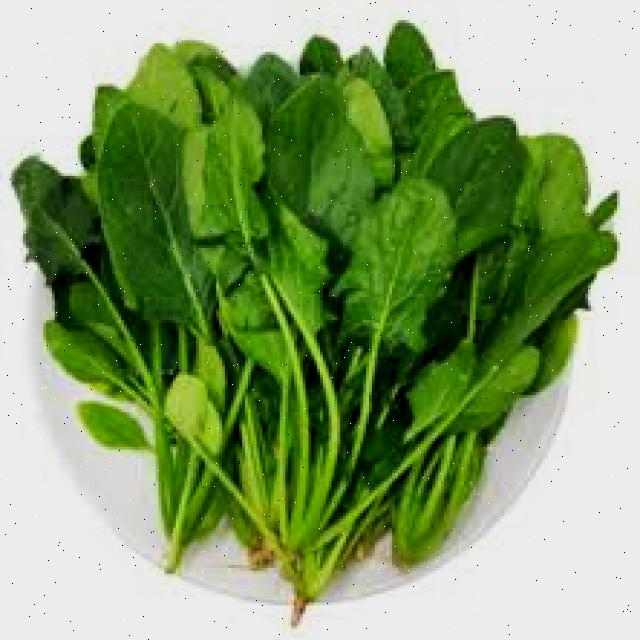spinach: (0, 11, 629, 628)
